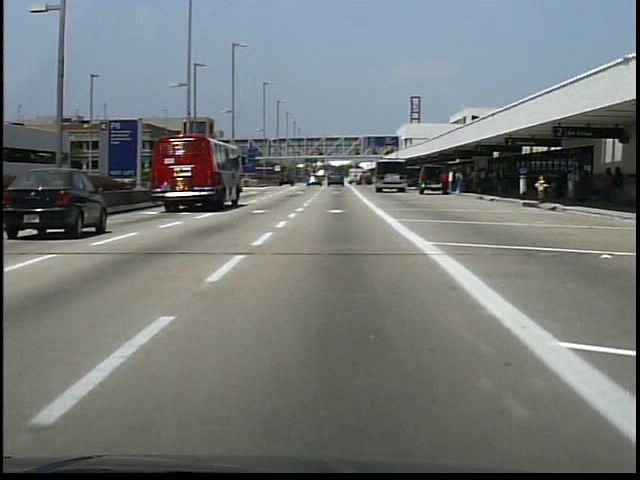person: (438, 168, 453, 200)
